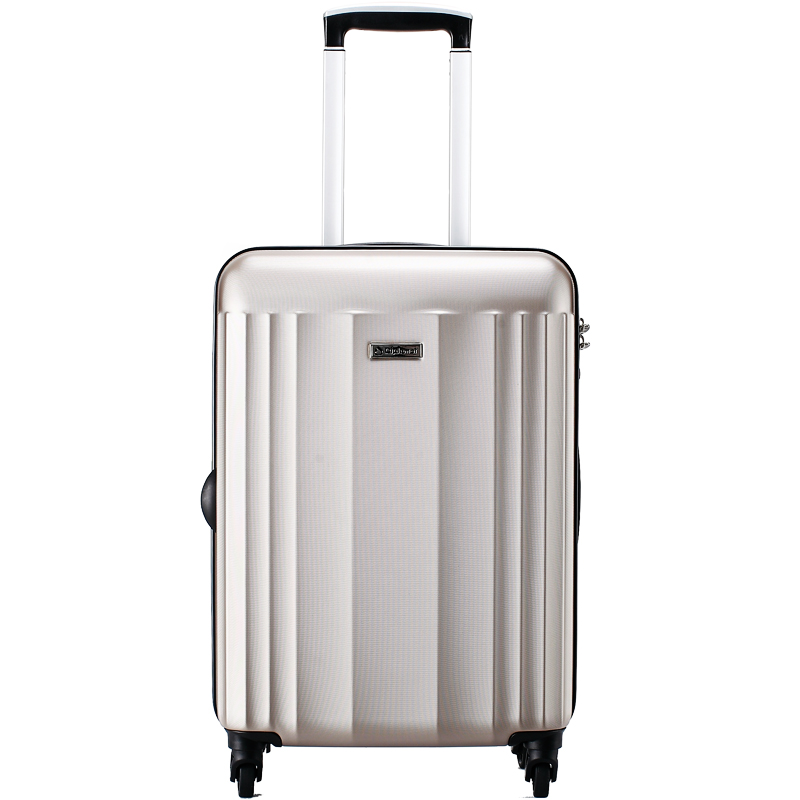luggage: (200, 6, 594, 800)
